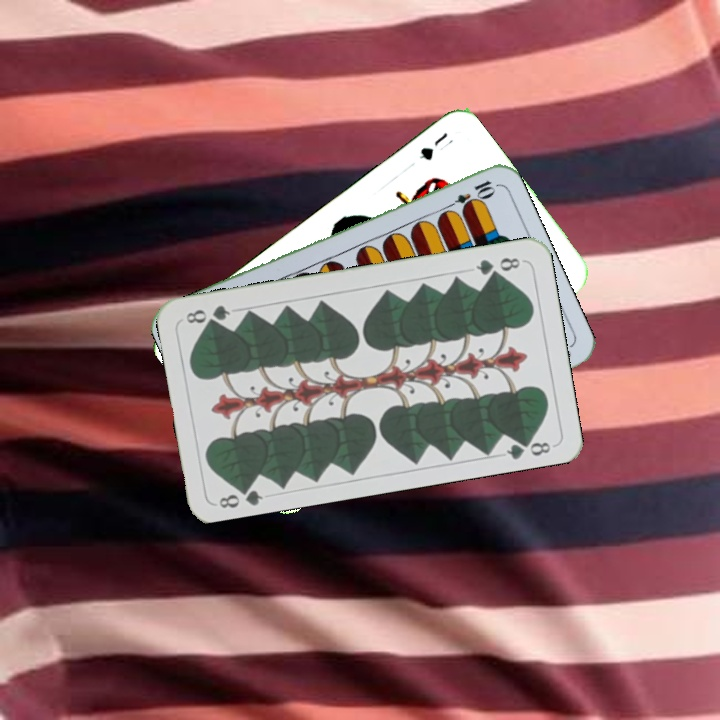E10: (441, 176, 497, 214)
G8: (215, 480, 266, 511), (471, 253, 523, 279)
GU: (414, 128, 451, 163)
